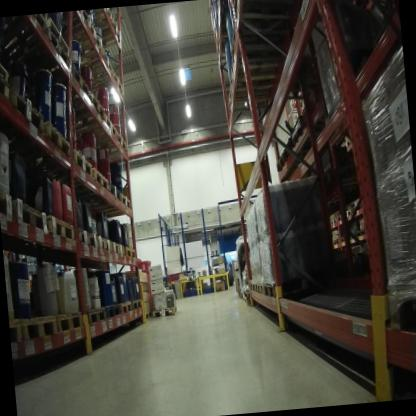pallet: (0, 126, 309, 221), (224, 0, 315, 49), (262, 263, 344, 305), (226, 41, 293, 92), (0, 29, 70, 72), (221, 77, 295, 117), (25, 59, 94, 101), (53, 109, 120, 144), (13, 186, 53, 239), (9, 79, 45, 137), (44, 88, 106, 120), (72, 130, 134, 159), (65, 18, 102, 63), (40, 119, 73, 168), (18, 306, 59, 339), (84, 188, 136, 214), (85, 68, 126, 100), (48, 211, 80, 250), (78, 49, 114, 78), (89, 16, 124, 45), (2, 15, 48, 36), (70, 147, 95, 182), (56, 308, 86, 334), (76, 222, 101, 253), (50, 18, 72, 52), (76, 305, 108, 326), (90, 165, 110, 194), (9, 317, 27, 348), (82, 8, 116, 24), (0, 64, 12, 109), (150, 304, 178, 321), (101, 303, 122, 323), (95, 232, 114, 254), (0, 45, 12, 77), (111, 238, 127, 261), (274, 146, 287, 173), (140, 306, 155, 328), (116, 300, 133, 317), (108, 182, 121, 204), (129, 296, 144, 312), (124, 244, 138, 261), (284, 137, 293, 158), (243, 291, 254, 308), (257, 279, 266, 298), (252, 278, 259, 297), (248, 278, 254, 292), (240, 291, 245, 303)
